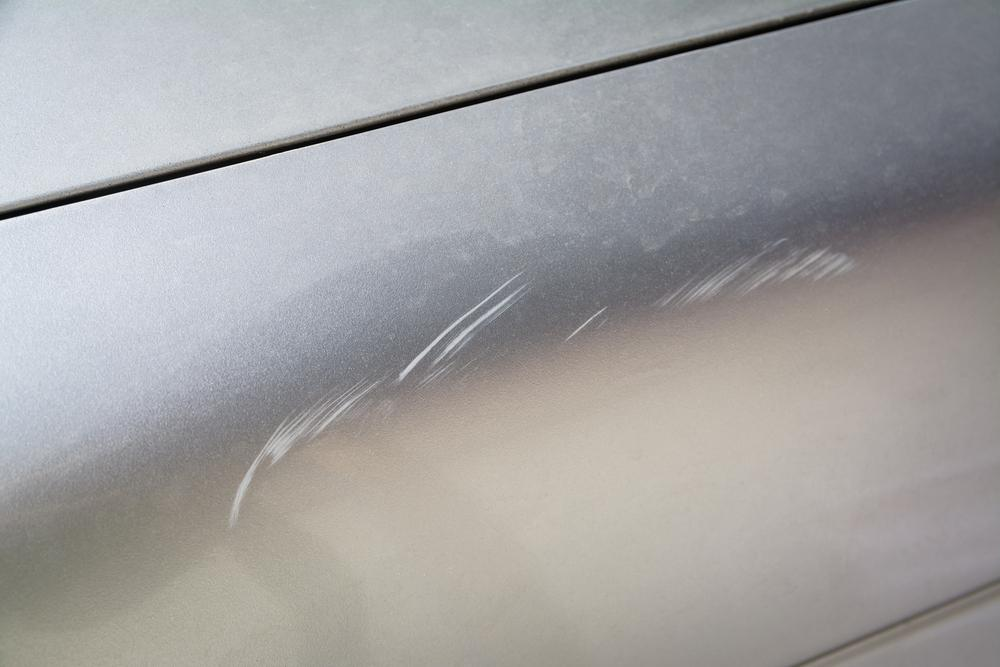scratch: (219, 233, 872, 537)
